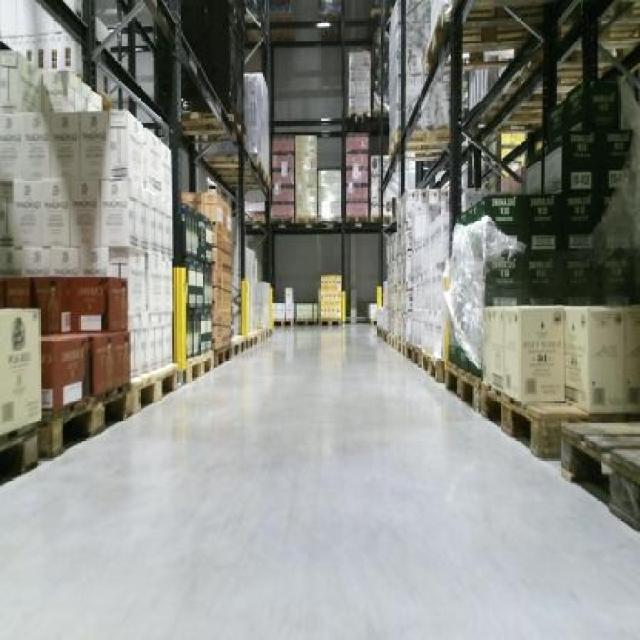floor: (0, 323, 637, 637)
pallets: (563, 305, 637, 409), (482, 305, 562, 400), (0, 308, 38, 479)
